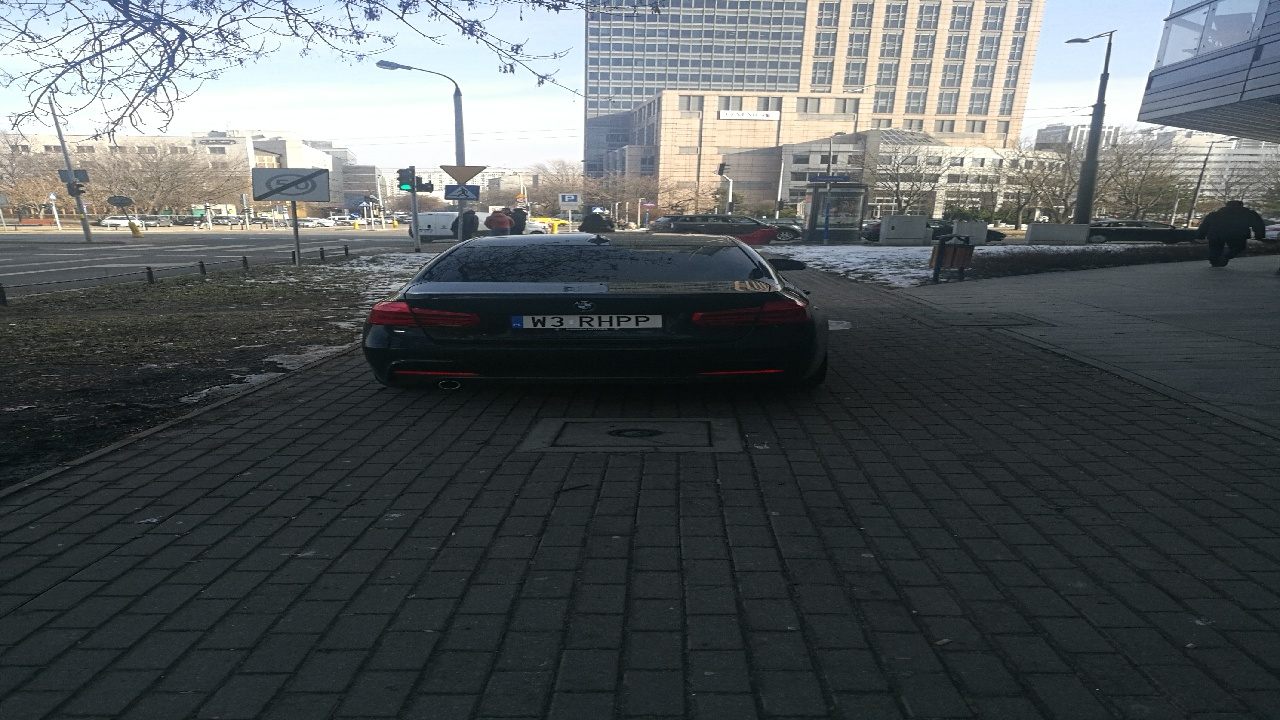A7: (435, 159, 488, 185)
D6: (444, 184, 484, 205)
